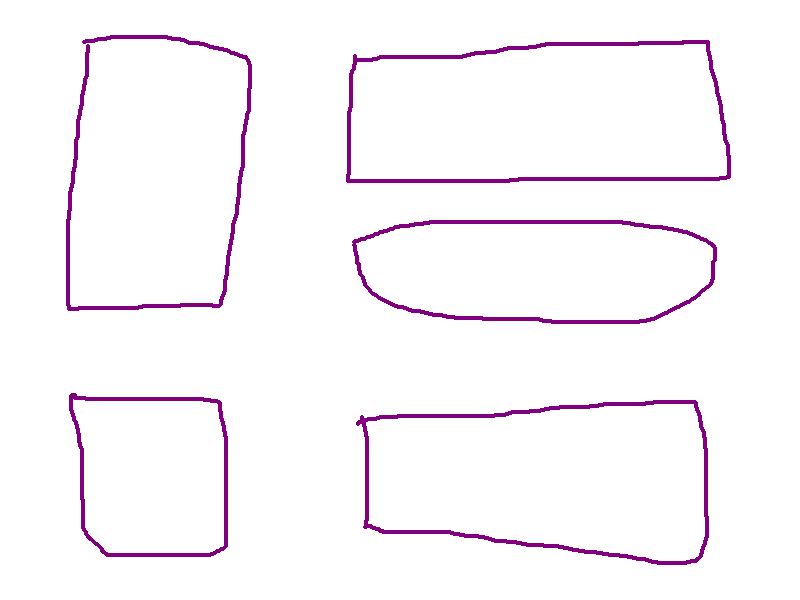rect: (334, 33, 737, 191), (353, 395, 716, 570), (59, 30, 253, 315), (348, 213, 721, 329), (64, 389, 234, 564)
